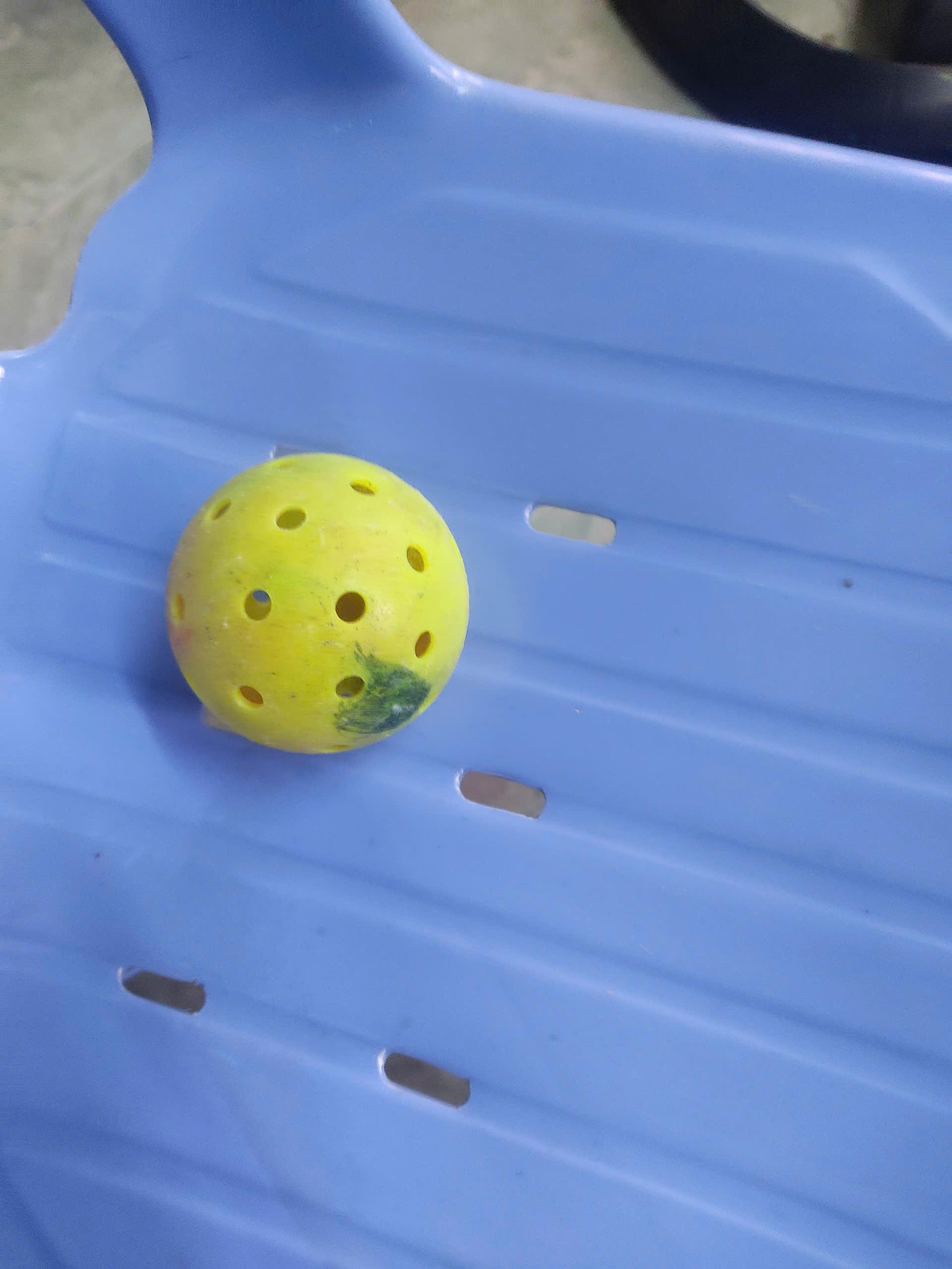ball: (156, 449, 476, 769)
